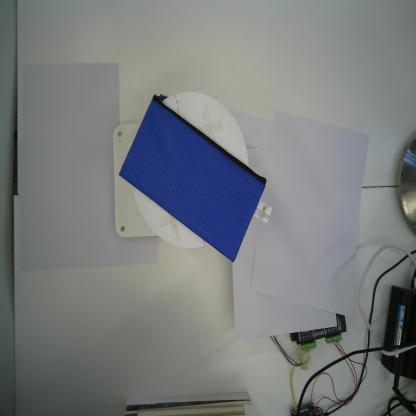Stationery: (118, 92, 269, 266)
